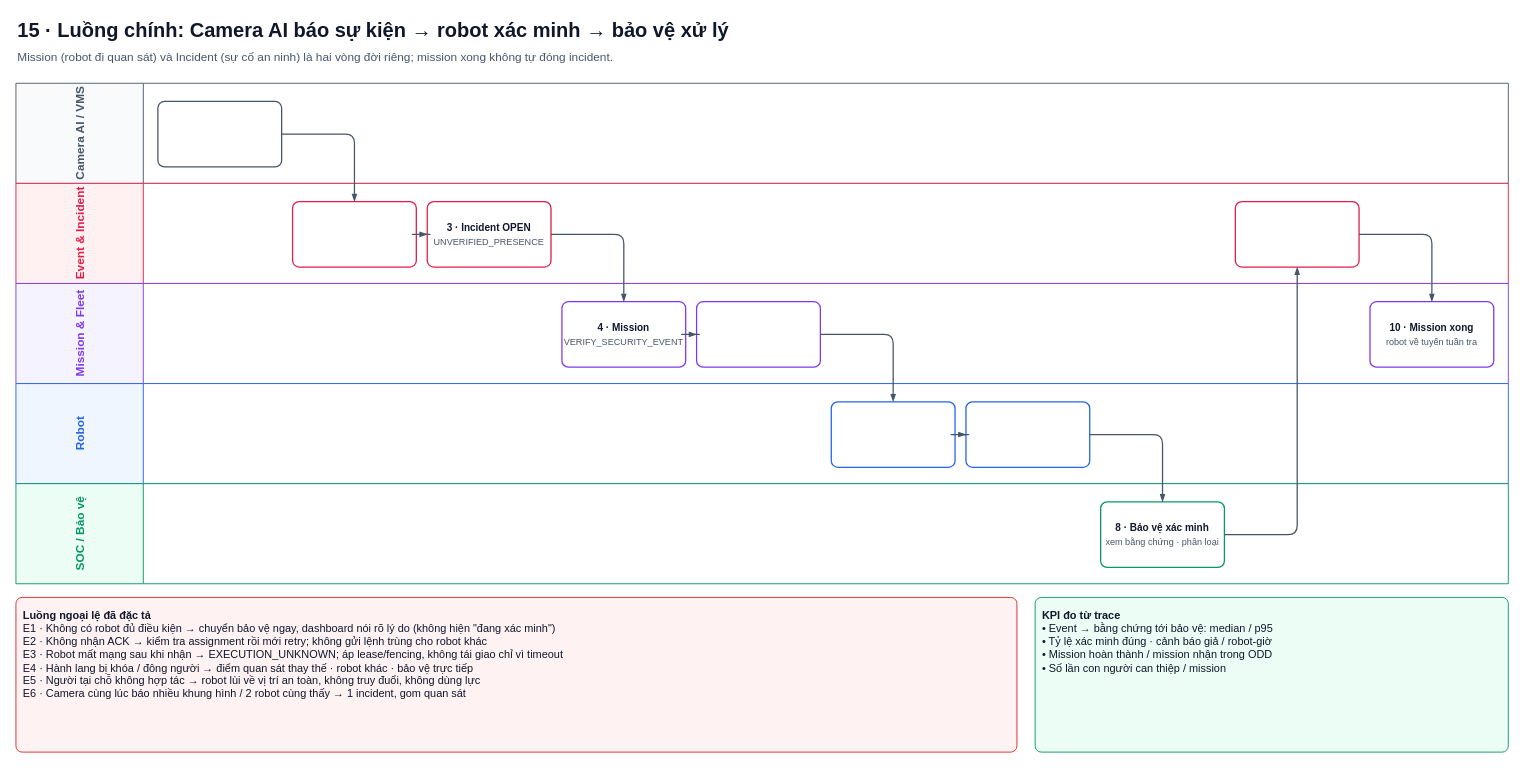
The diagram is 1524 pixels wide and 768 high, and some of its shapes have lost their labels. Here are the shapes that lost their labels. From the top down, the centre of each, then its label:
the point at 219,133: 1 · Phát hiện người ở khu hạn chế 23:15 · 96%
the point at 354,233: 2 · Đánh giá bối cảnh dedup · access control · lịch
the point at 1296,233: 9 · Ghi kết quả đóng · false alarm · escalate
the point at 758,334: 5 · Chọn robot lọc capability · pin · map · ODD → điểm
the point at 892,434: 6 · ACK & di chuyển tới điểm quan sát an toàn
the point at 1027,434: 7 · Quan sát ảnh/clip · VLM mô tả · loa nếu được phép
